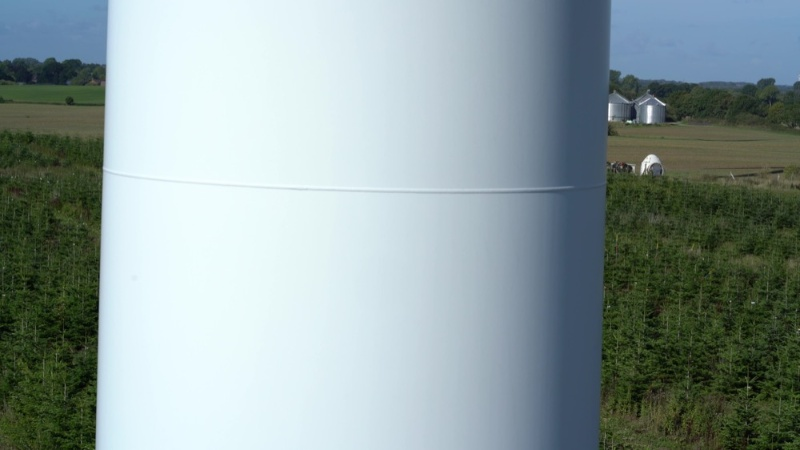weldseam: (101, 159, 608, 204)
